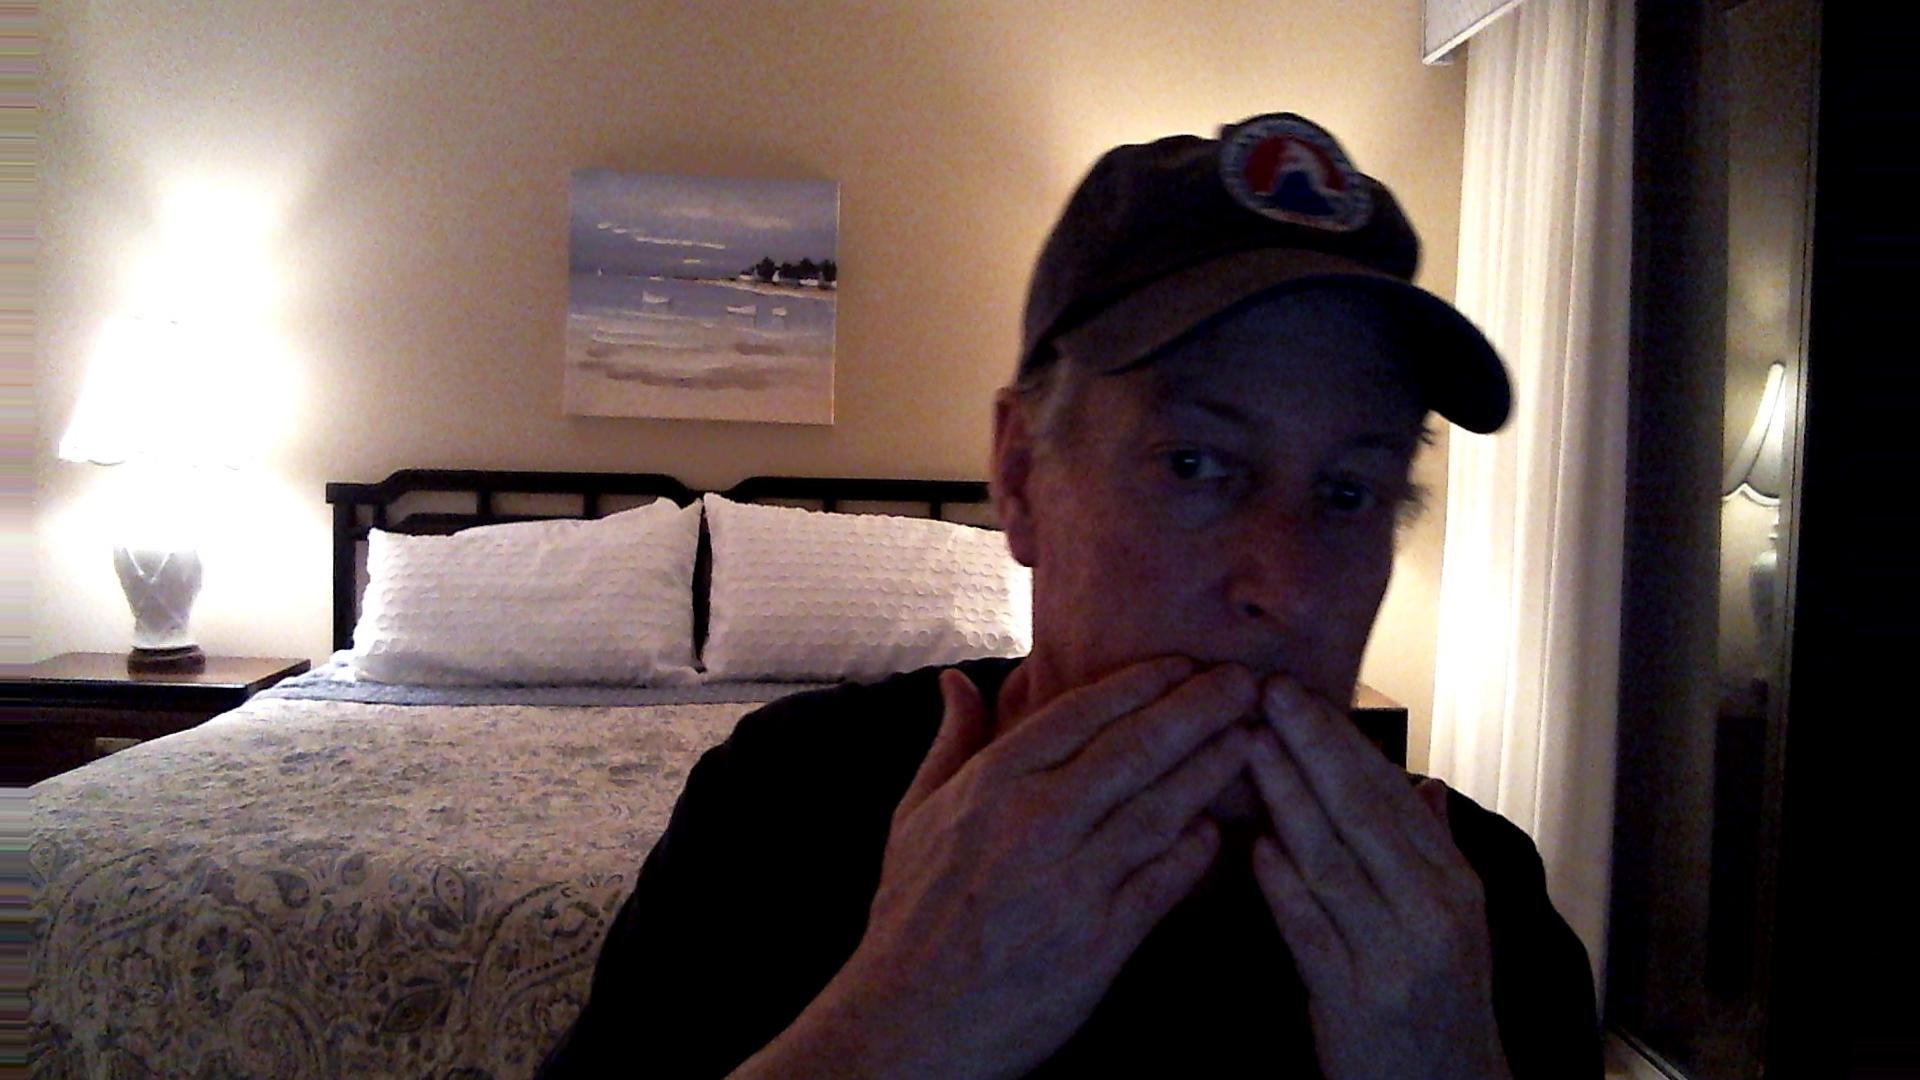Thank You: (837, 620, 1519, 1018)
